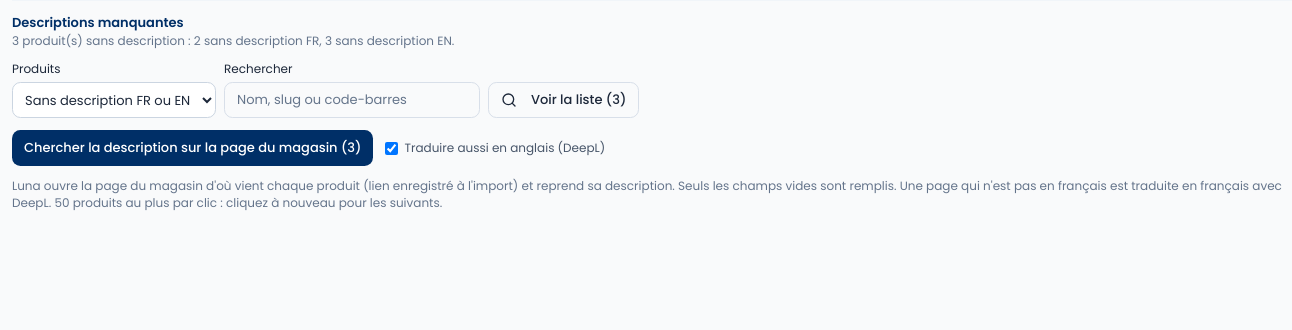
Scenario: MissingDescriptionsPanel › lists the products without description and narrows them by language and search
This screenshot has width=1292, height=330.
Expected: the text "3 produit(s) sans description : 2 sans description FR, 3 sans description EN" is shown, x1=12 y1=32 x2=454 y2=48
Click the button "Voir la liste (3)" at (564, 100), box x1=488 y1=82 x2=639 y2=118
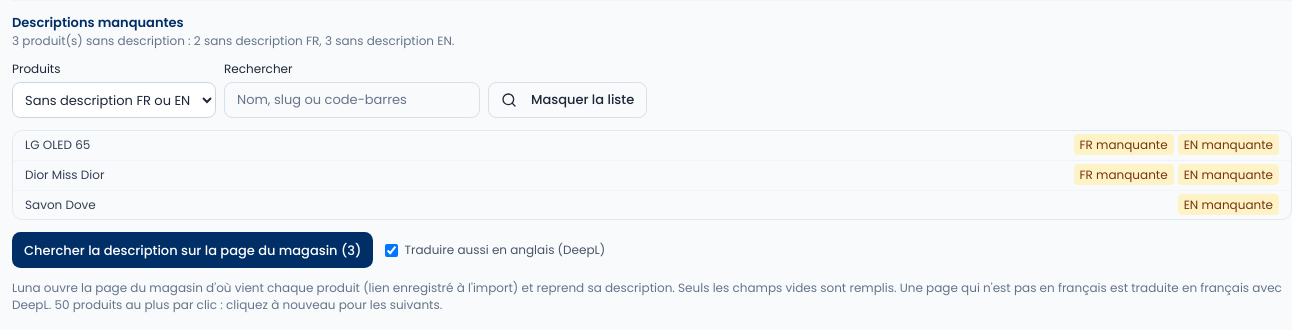
Expected: the text "Savon Dove" is shown, x1=13 y1=190 x2=410 y2=220
Select "Sans description FR" in the dropdown labelled "Produits" at (114, 100), box x1=12 y1=82 x2=216 y2=118
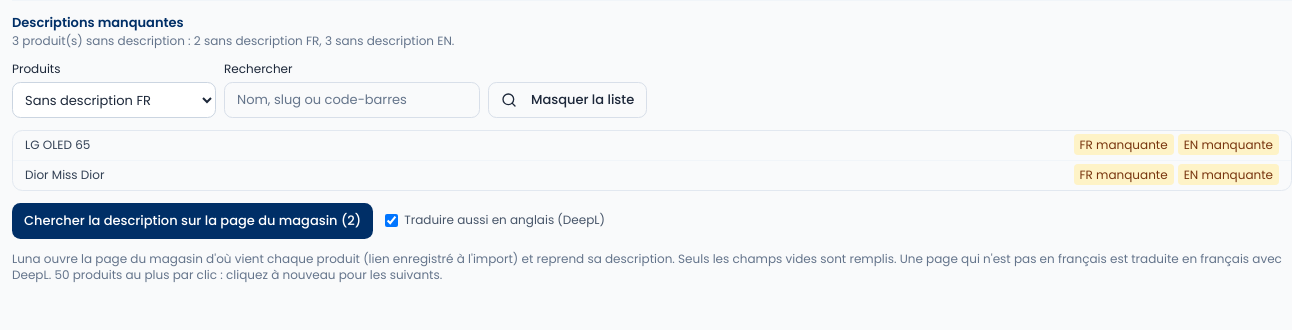
Expected: the text "Savon Dove" is gone
Type "dior" into the field labelled "Rechercher" at (352, 100), box x1=224 y1=82 x2=480 y2=118
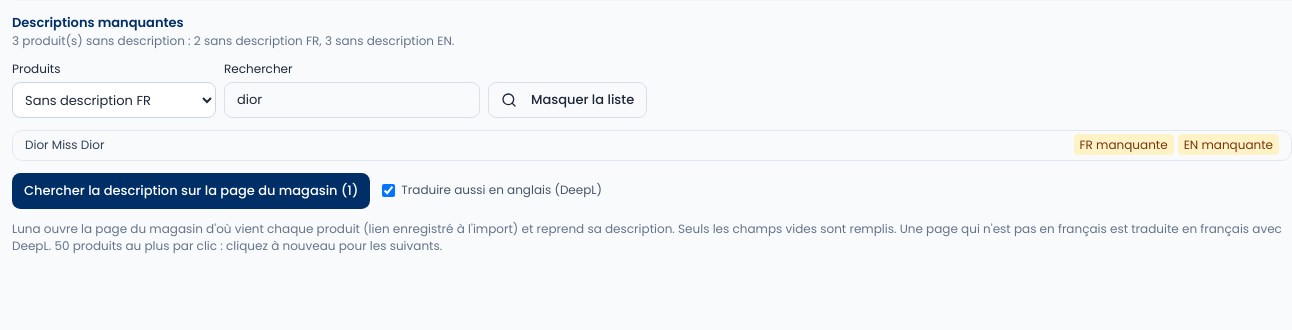
Expected: the button "Masquer la liste" is shown, x1=488 y1=82 x2=647 y2=118
Expected: the text "Dior Miss Dior" is shown, x1=13 y1=131 x2=410 y2=160
Expected: the text "LG OLED 65" is gone
